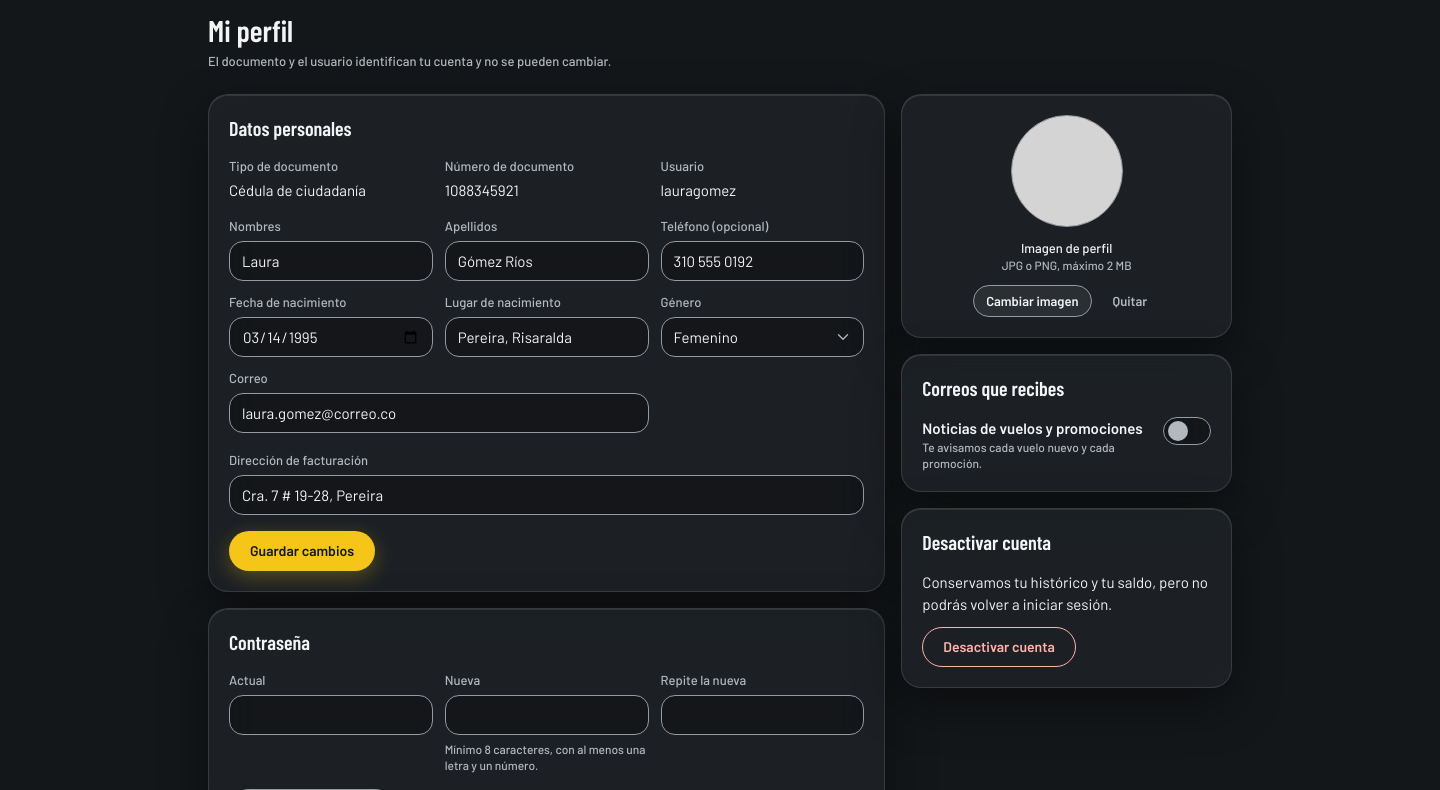
Test: S05 · Imagen de perfil (HU-07) › quita la imagen actual
This screenshot has width=1440, height=790.
Click the button "Quitar": (1130, 301) [1100, 285, 1160, 317]
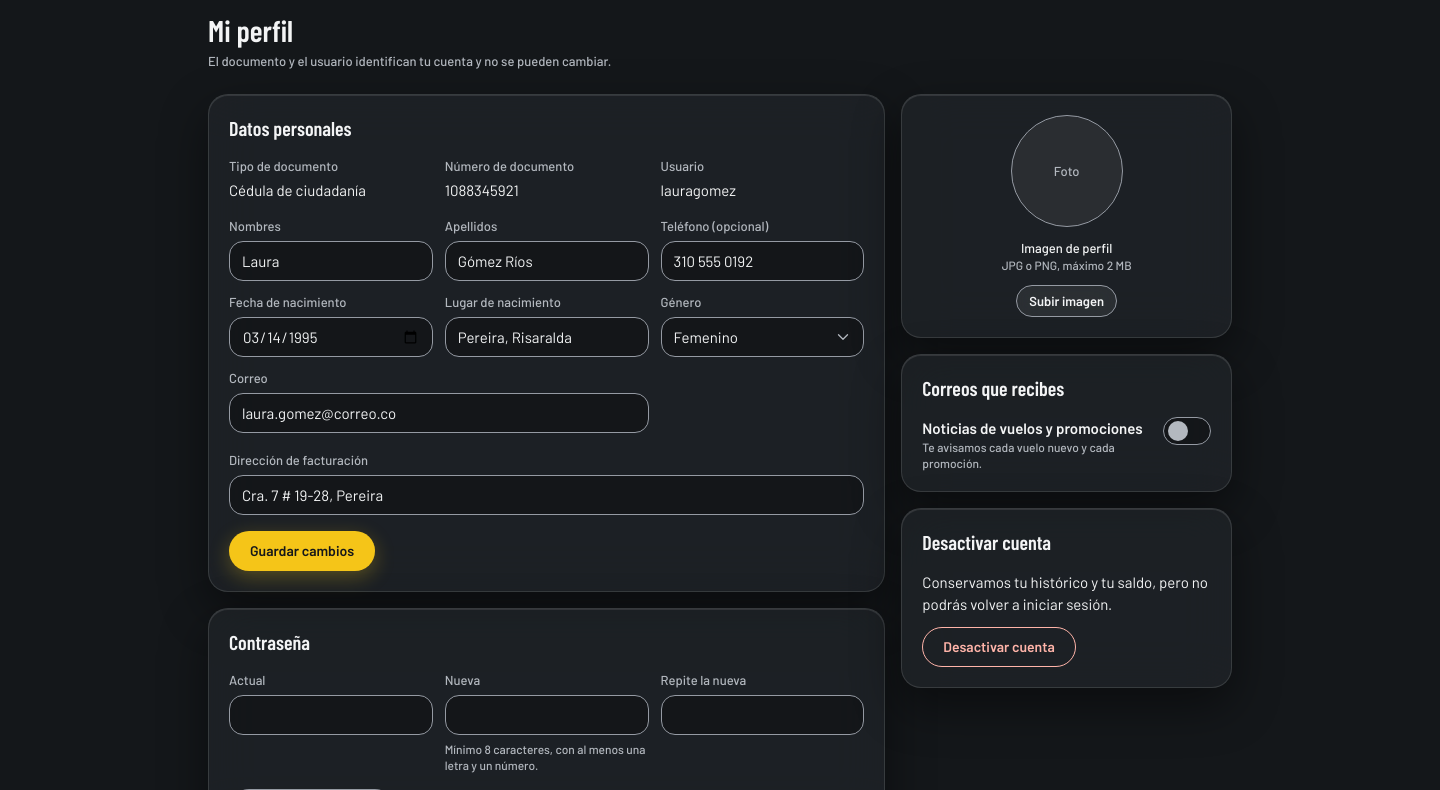
Check: the button "Quitar" is gone
